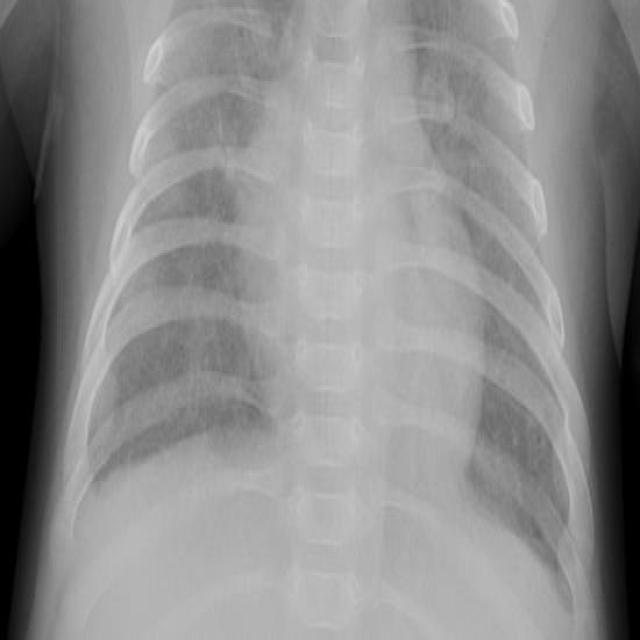low-pneumonia: (425, 6, 505, 210), (164, 11, 247, 150)
